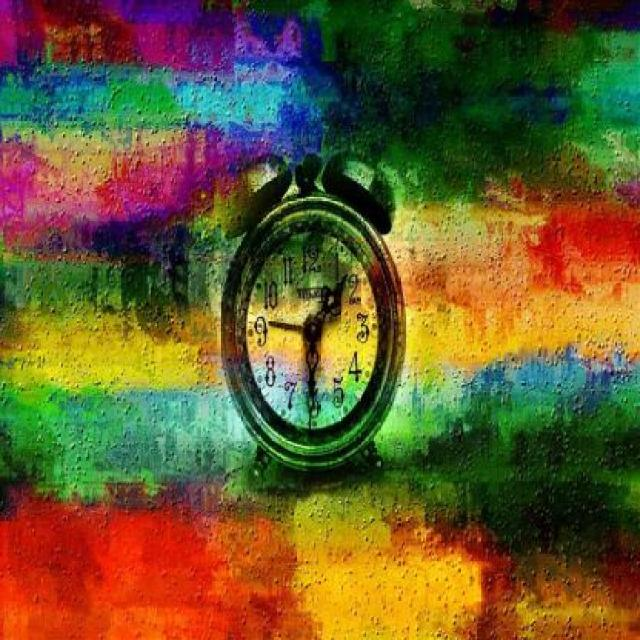clock: (248, 236, 379, 424)
